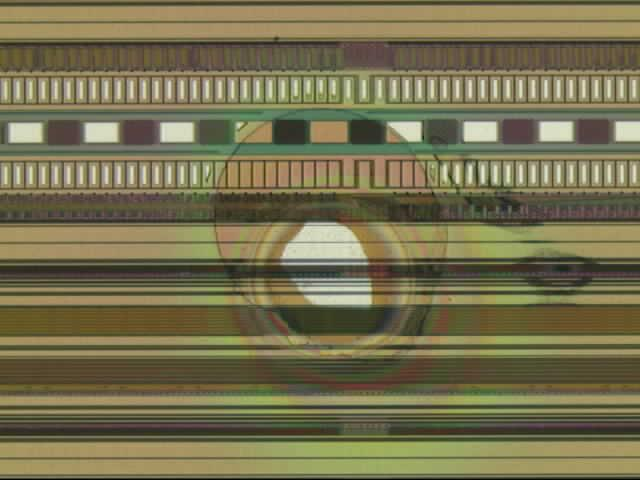COATING BAD: (198, 83, 600, 405)
